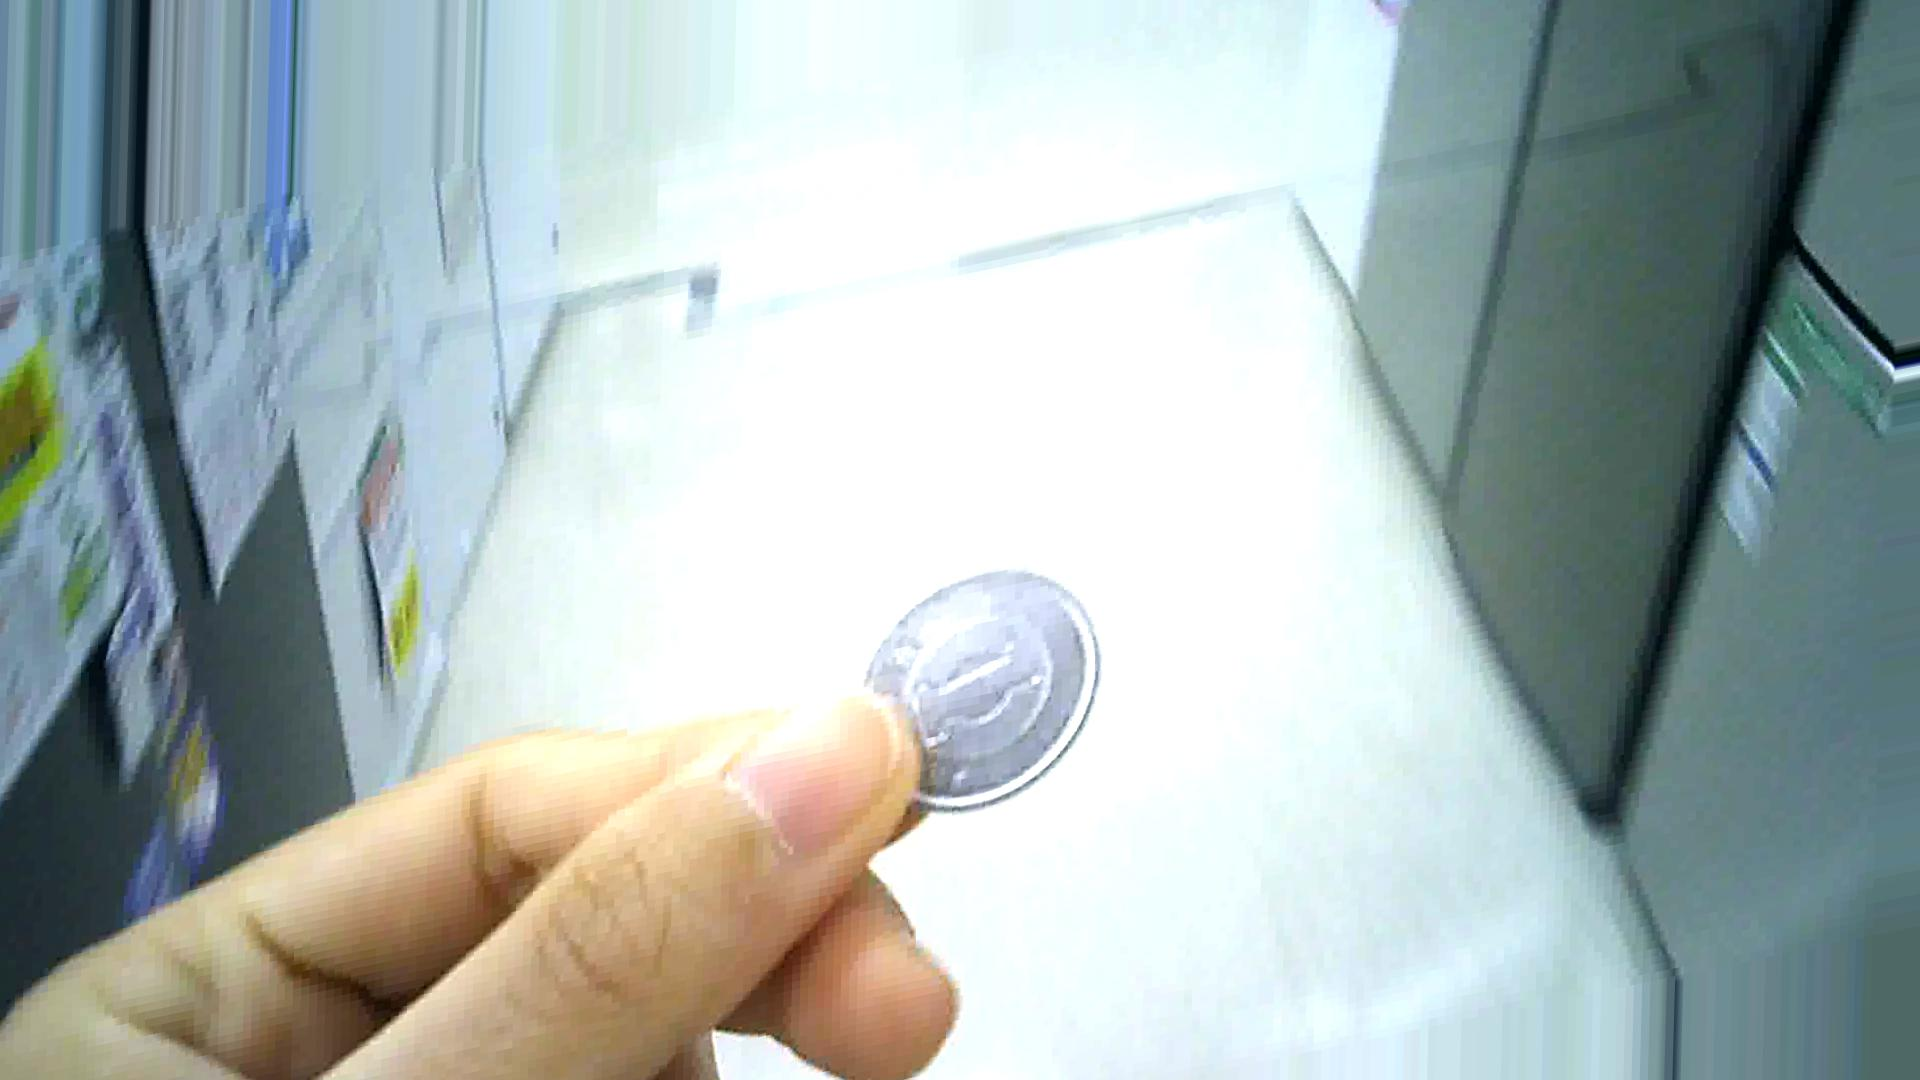1 Yen: (849, 545, 1101, 820)
